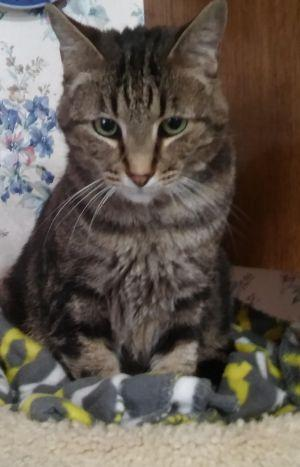bengal: (26, 1, 246, 215)
